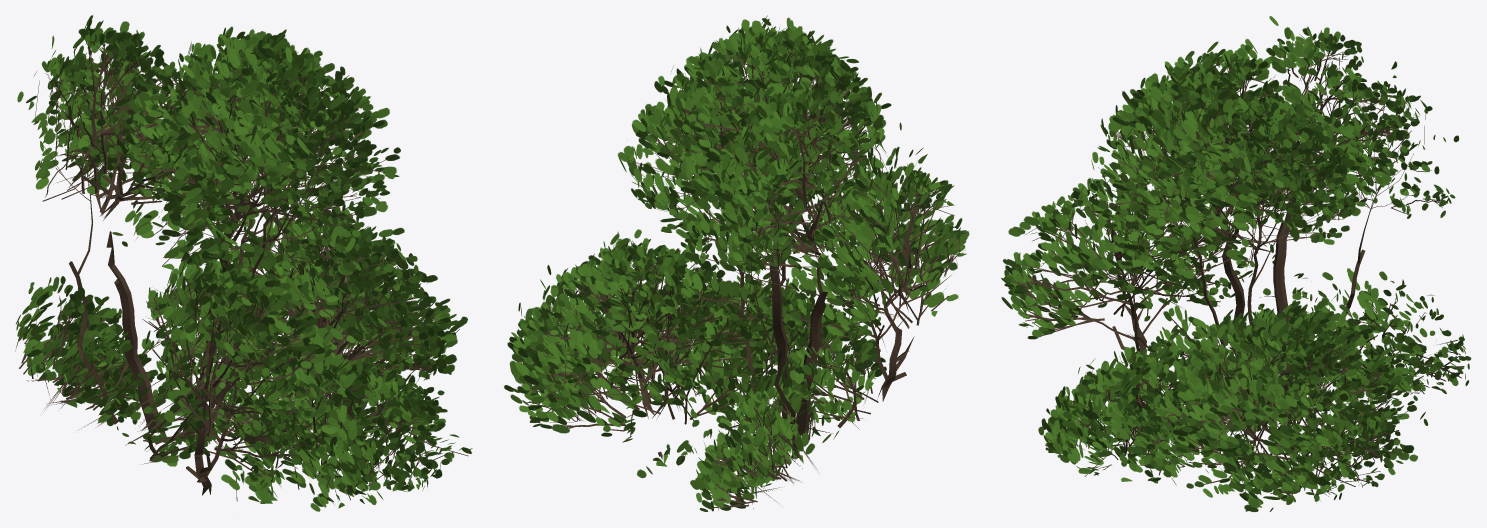
3 renders of one model, left to right at view 1: azimuth 30°, elevation 25°; view 2: azimuth 150°, elevation 25°; view 3: azimuth 270°, elevation 25°, orthographic. The views are drawn at different scales.
Parts seen in each view (by area): view 1: oak 01.001_trunk_Mat.001_0.187; view 2: oak 01.001_trunk_Mat.001_0.187; view 3: oak 01.001_trunk_Mat.001_0.187.
Boxes of the visible parts, <box> form: oak 01.001_trunk_Mat.001_0.187: <box>15,15,472,511</box>; oak 01.001_trunk_Mat.001_0.187: <box>504,15,969,511</box>; oak 01.001_trunk_Mat.001_0.187: <box>1001,16,1471,511</box>.
Bounding box in the file's own units: 3.84 × 4.39 × 4.86.
Materials: 2 (1 with a texture image).
